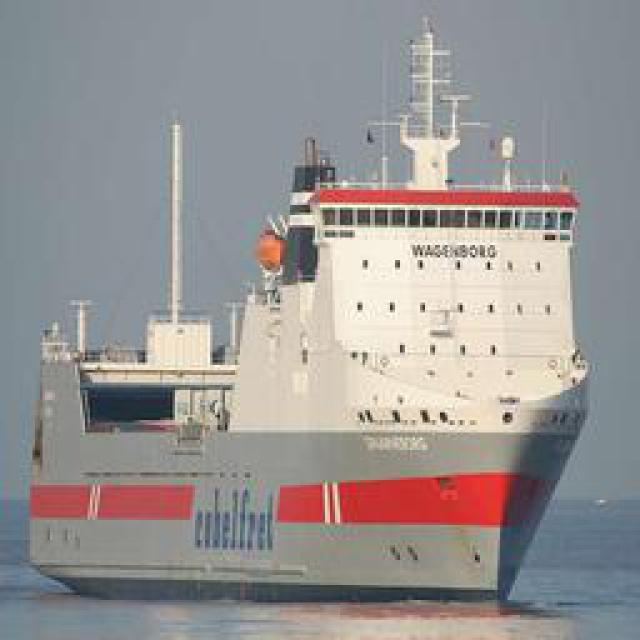Ship: (54, 63, 579, 628)
